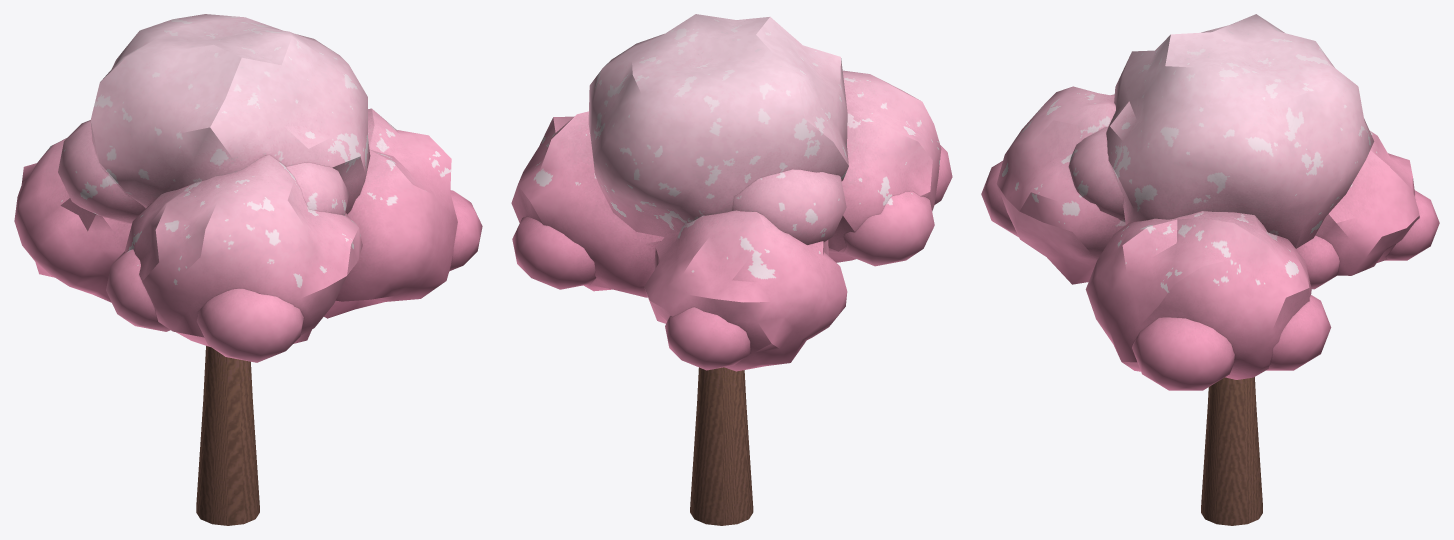
File: sakura_large_b.fbx
3 views of the same model, side by side, from view 1: azimuth 30°, elevation 25°; view 2: azimuth 150°, elevation 25°; view 3: azimuth 270°, elevation 25° (orthographic). The views are drawn at different scales.
Parts seen in each view (by area): view 1: sakura_large_b; view 2: sakura_large_b; view 3: sakura_large_b.
Boxes of the visible parts, x1,y1,x2,y2 form: sakura_large_b: (14, 14, 482, 525); sakura_large_b: (511, 14, 952, 525); sakura_large_b: (981, 14, 1439, 525).
Bounding box in the file's own units: 3465 × 4175 × 3691.
1 material, 1 textured.
